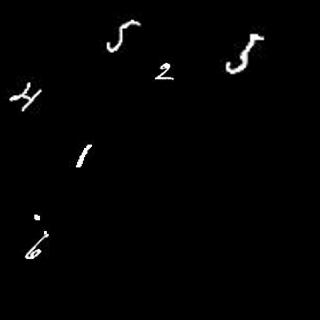dot: (30, 210, 46, 223)
five: (223, 32, 266, 74), (107, 17, 140, 53)
four: (8, 81, 44, 113)
one: (77, 140, 92, 167)
six: (26, 233, 54, 260)
two: (155, 61, 177, 83)
